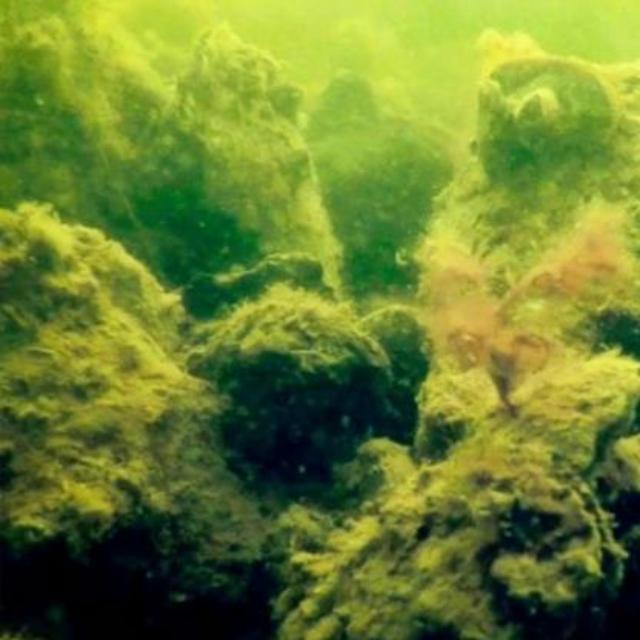Oyster-Closed: (0, 223, 258, 616), (271, 436, 630, 640), (123, 25, 344, 297), (197, 287, 393, 476), (479, 51, 619, 170), (510, 357, 640, 483)
